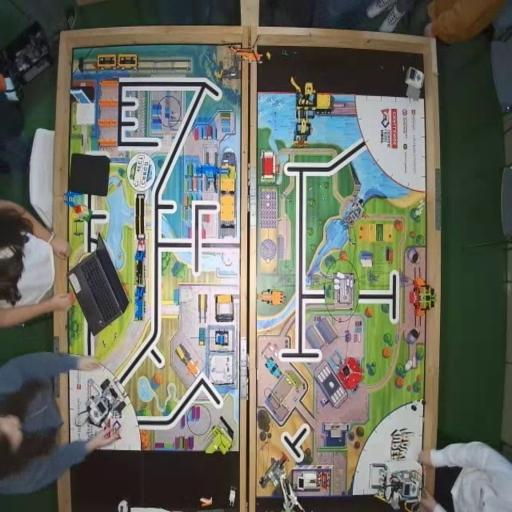lego_robot: (86, 377, 127, 430), (375, 467, 423, 512)
